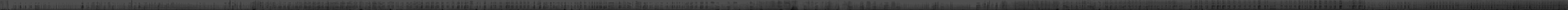Moan: (1258, 0, 1261, 10)
